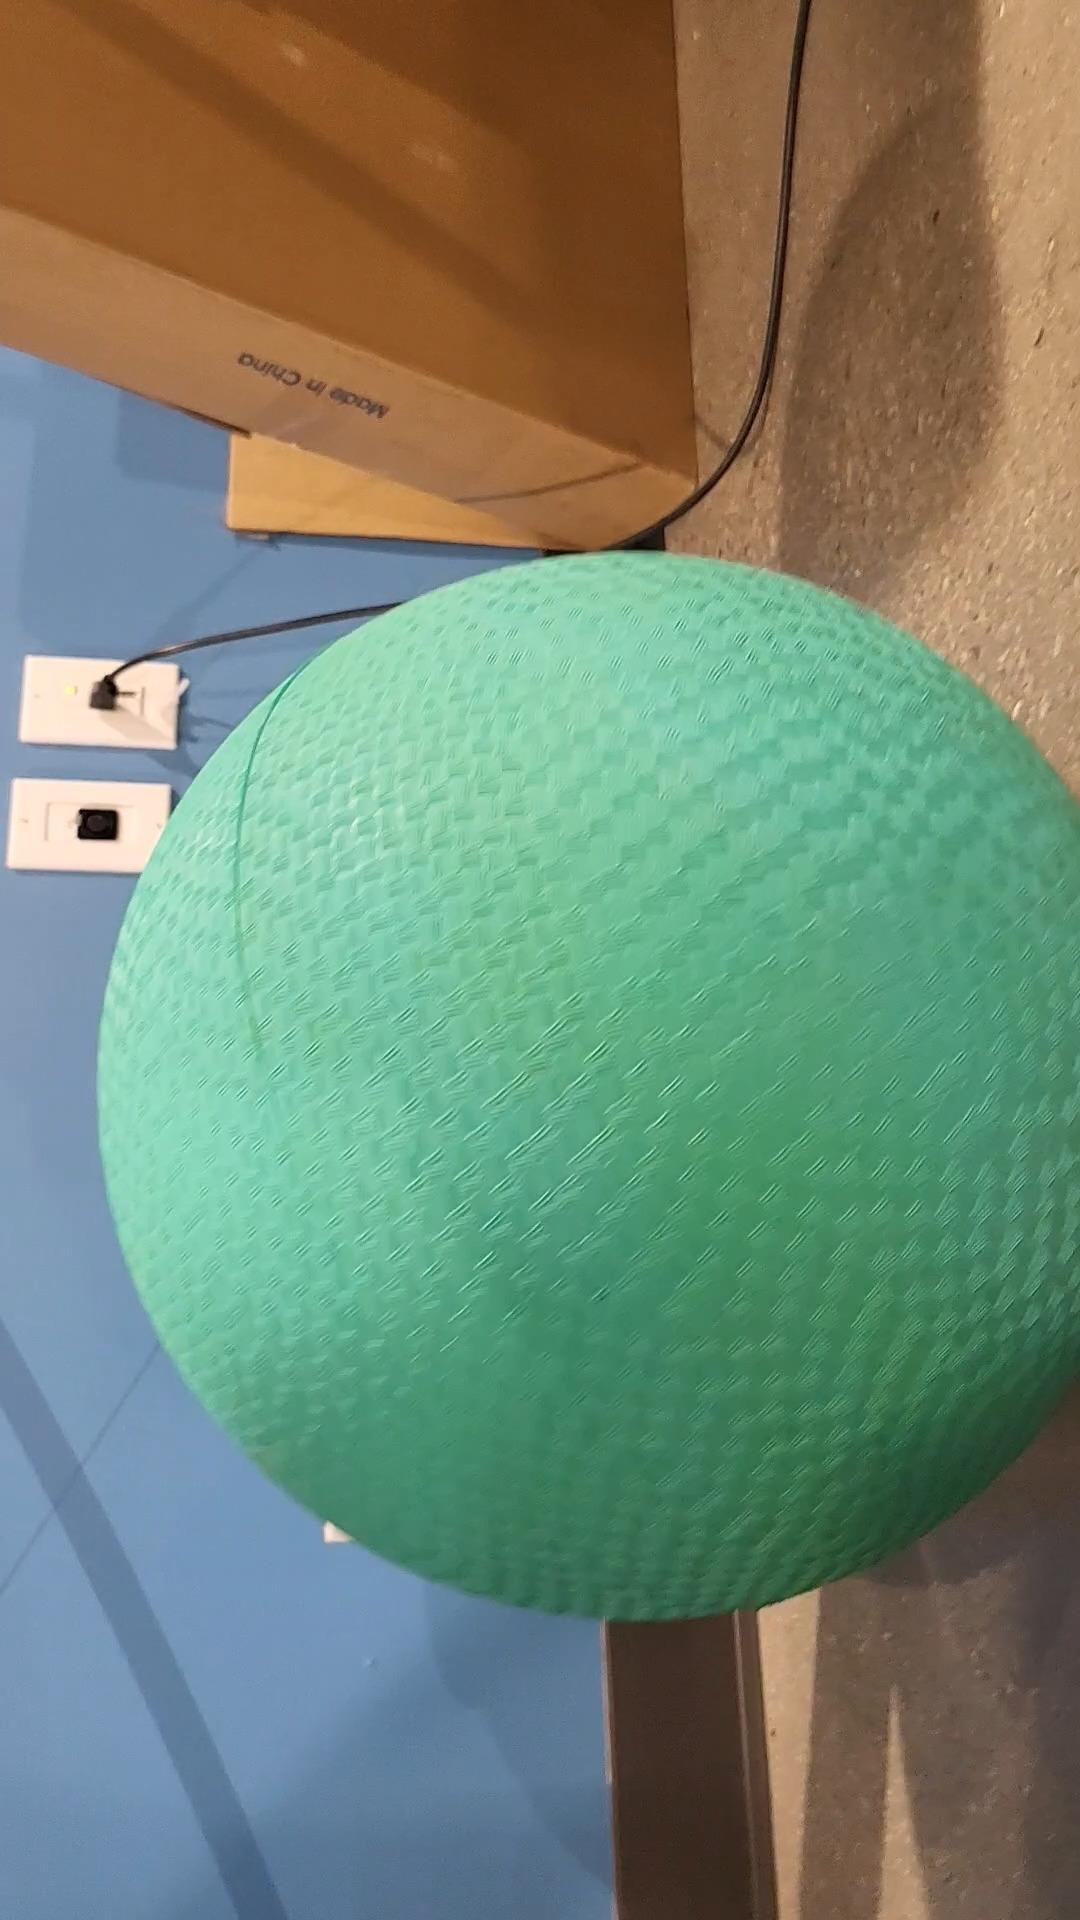algae: (94, 541, 1080, 1640)
